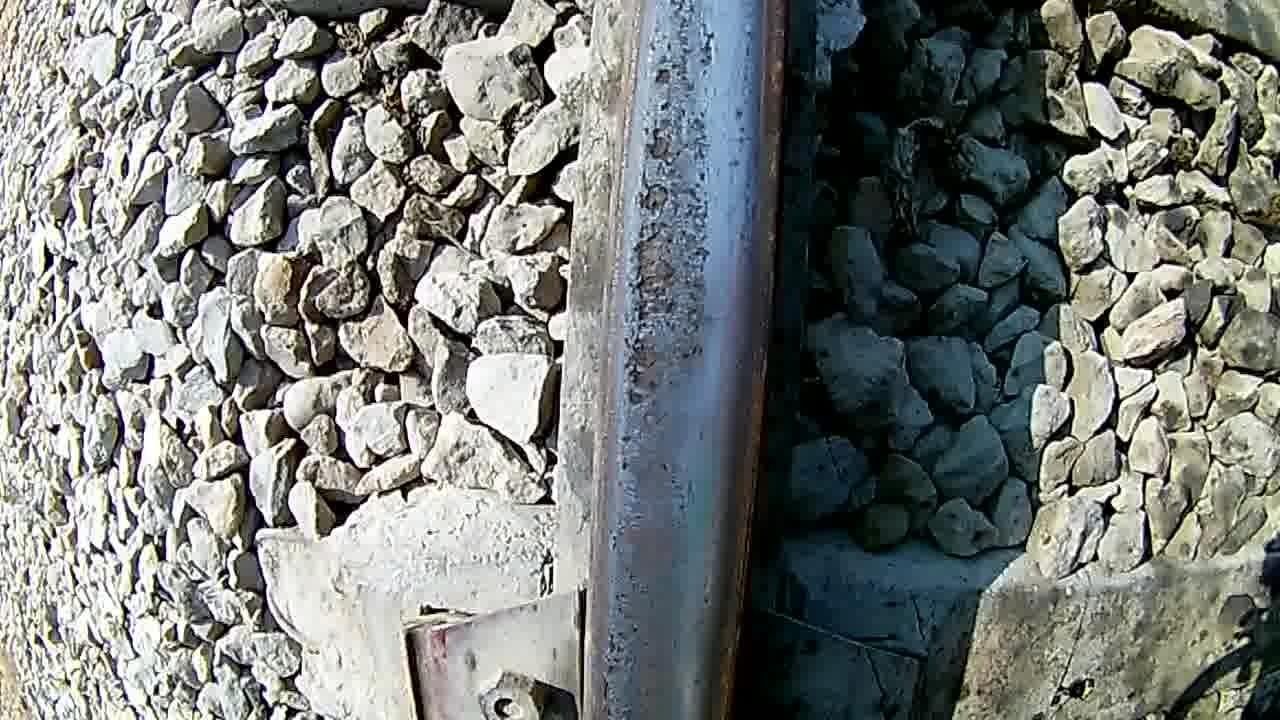crack: (585, 0, 764, 720)
